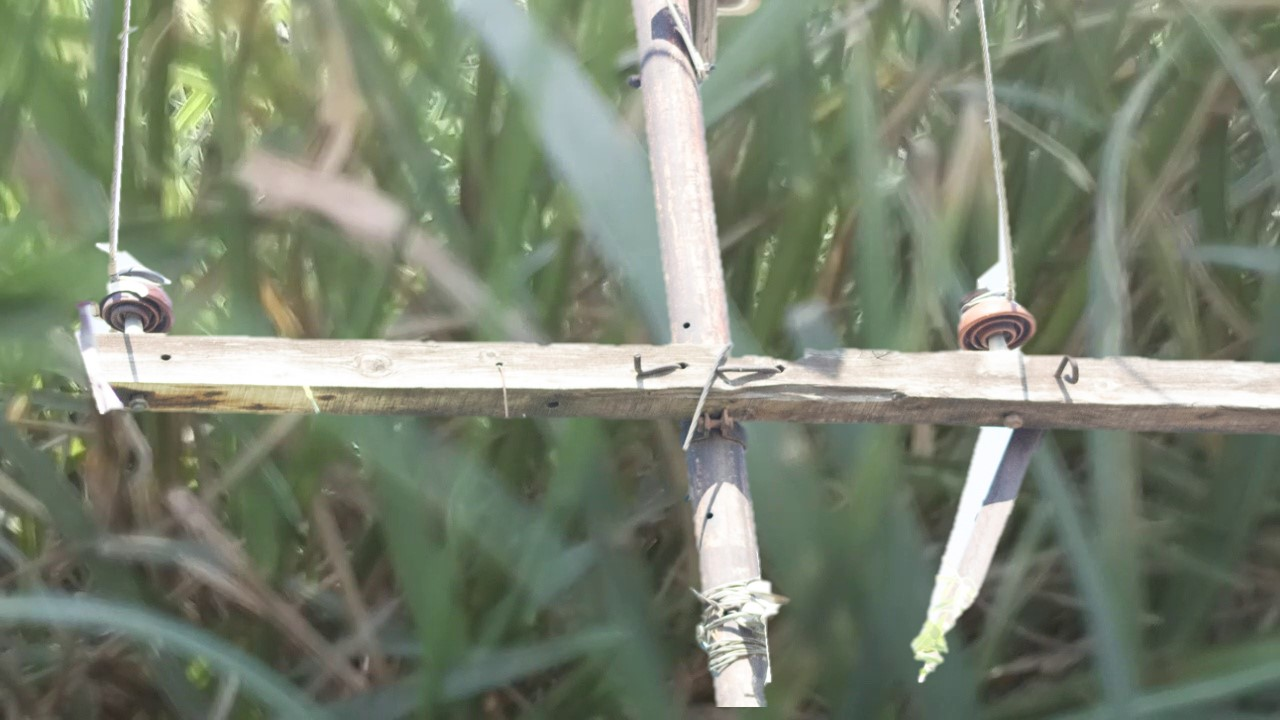defect_pin: (98, 260, 175, 336)
insulator_pin: (950, 287, 1042, 352)
